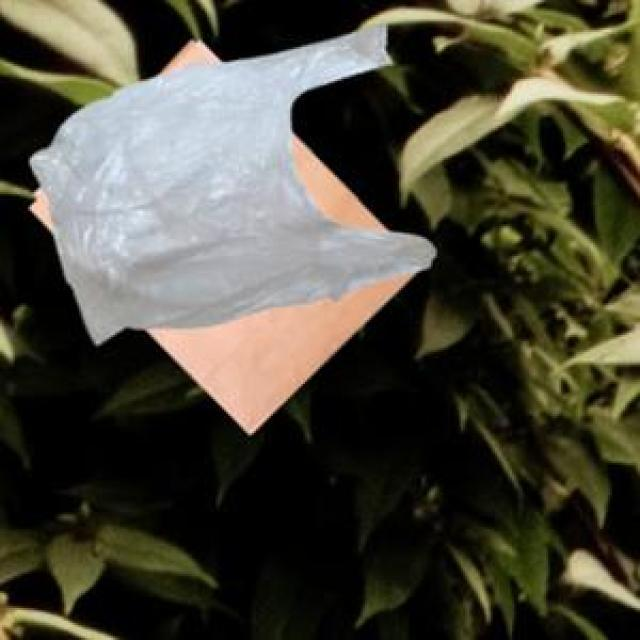paper: (26, 128, 412, 429)
